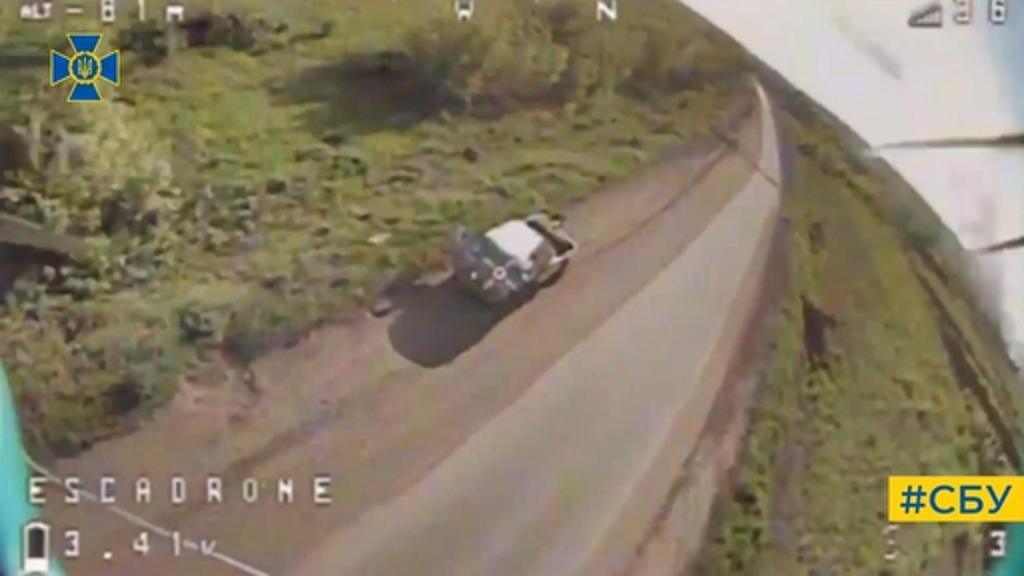TRUCK: (450, 200, 582, 310)
